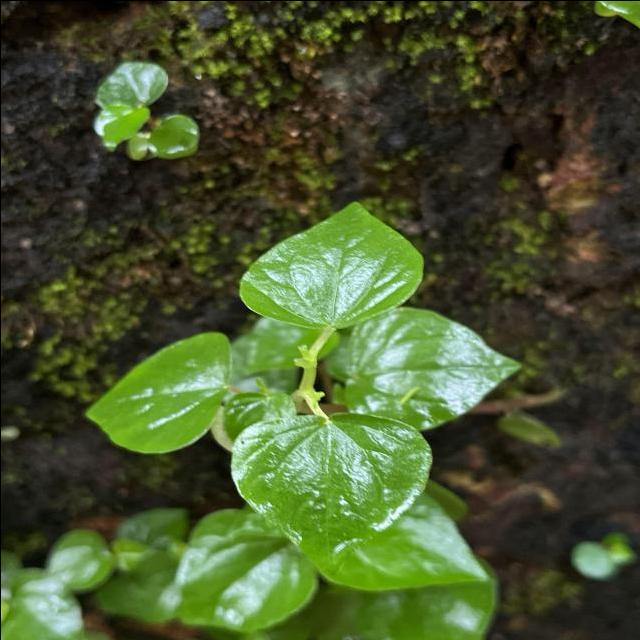Peperomia pellucida: (234, 194, 428, 336)
